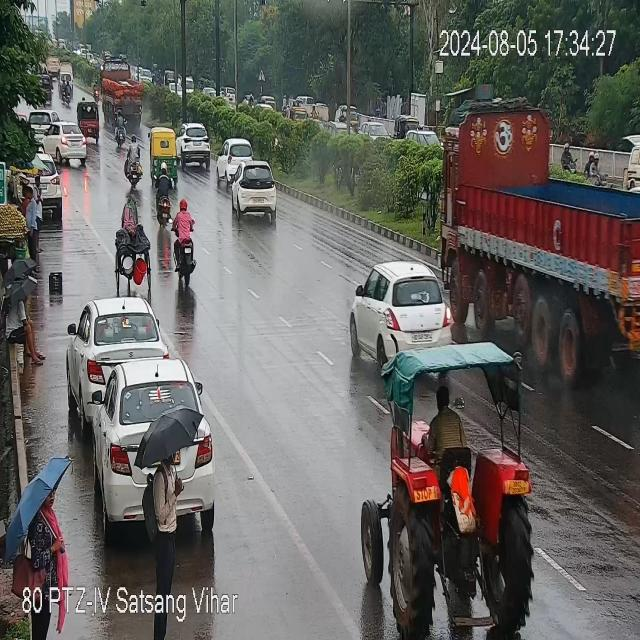2-wheelers: (173, 201, 202, 286), (155, 168, 177, 223), (127, 130, 142, 188), (112, 107, 130, 150), (61, 77, 73, 108)
auto: (147, 128, 178, 176), (77, 98, 102, 140)
car: (90, 368, 216, 532), (68, 295, 170, 417), (348, 263, 448, 362), (13, 152, 61, 227), (230, 164, 280, 221), (45, 123, 89, 165), (178, 124, 212, 170), (217, 142, 256, 182)
pedestrian: (138, 406, 203, 582), (5, 444, 81, 581), (3, 265, 42, 376), (22, 180, 44, 270)
truck: (440, 85, 640, 382), (364, 341, 532, 629), (101, 46, 144, 125)
